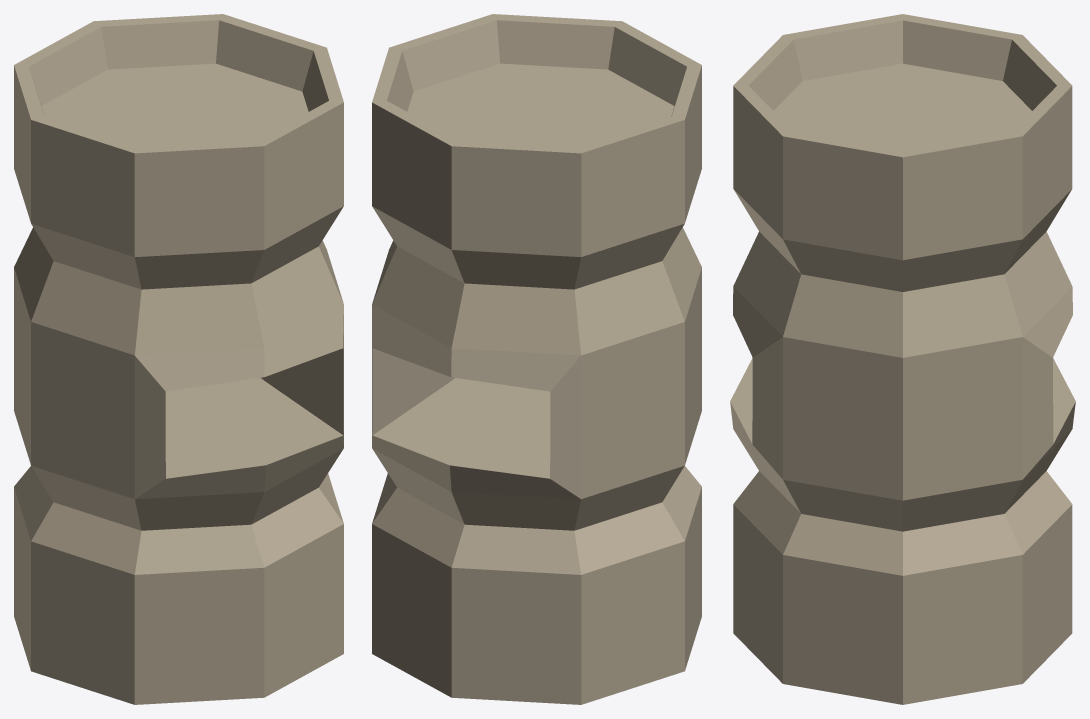
The model's file is a_z3_woodenStatue_s.fbx.
The picture shows the model from 3 angles, left to right: view 1: azimuth 30°, elevation 25°; view 2: azimuth 150°, elevation 25°; view 3: azimuth 270°, elevation 25°; orthographic projection.
Parts seen in each view (by area): view 1: a_z3_woodenStatue_s; view 2: a_z3_woodenStatue_s; view 3: a_z3_woodenStatue_s.
Boxes of the visible parts, x1,y1,x2,y2 form: a_z3_woodenStatue_s: [14, 14, 343, 704]; a_z3_woodenStatue_s: [372, 14, 701, 704]; a_z3_woodenStatue_s: [730, 14, 1075, 704].
Size of the model in its own units: 68.89 by 123 by 70.23.
